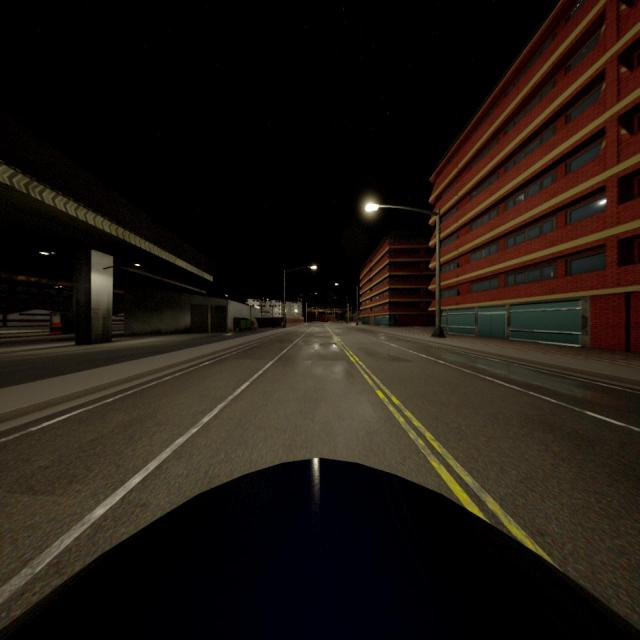Vehicle: (0, 455, 640, 640), (321, 314, 334, 322)
